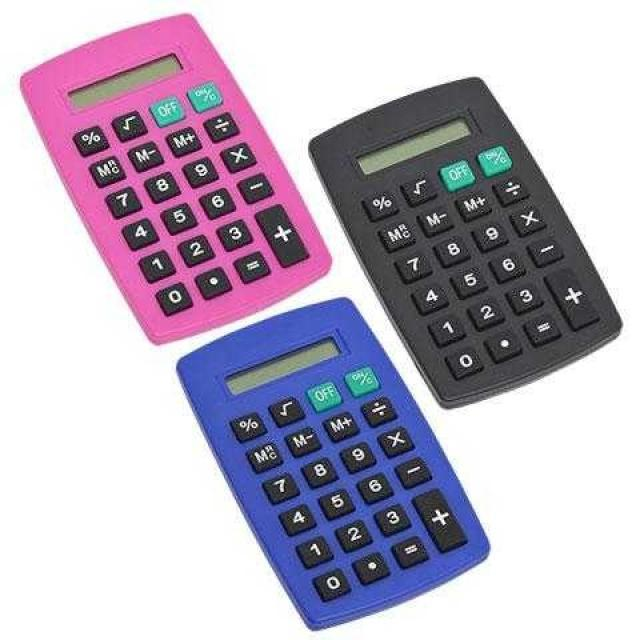Calculator: (309, 79, 620, 405), (179, 299, 487, 628), (21, 15, 329, 341)
